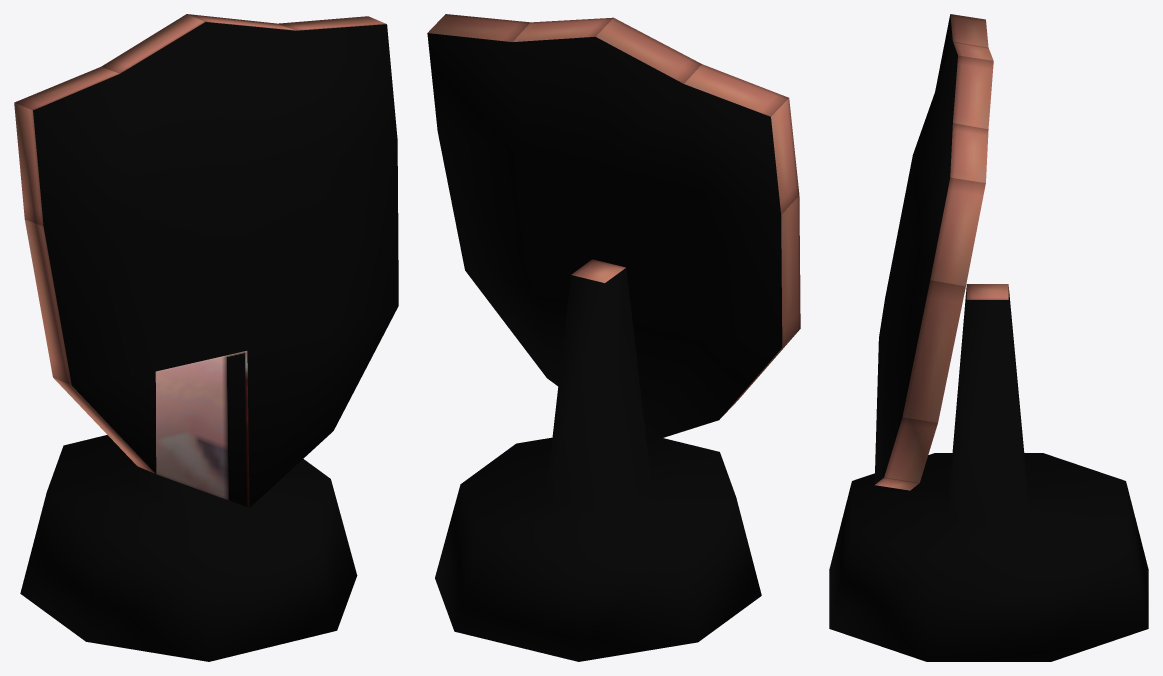
The picture shows the model from 3 angles, left to right: view 1: azimuth 30°, elevation 25°; view 2: azimuth 150°, elevation 25°; view 3: azimuth 270°, elevation 25°; orthographic projection. The views are drawn at different scales.
Visible parts, largest first — view 1: T1L6M003_38; view 2: T1L6M003_38; view 3: T1L6M003_38.
Boxes of the visible parts, x1,y1,x2,y2 form: T1L6M003_38: [14, 14, 398, 661]; T1L6M003_38: [427, 14, 800, 661]; T1L6M003_38: [829, 14, 1148, 661].
Size of the model in its own units: 0.4346 by 0.6738 by 0.3584.
